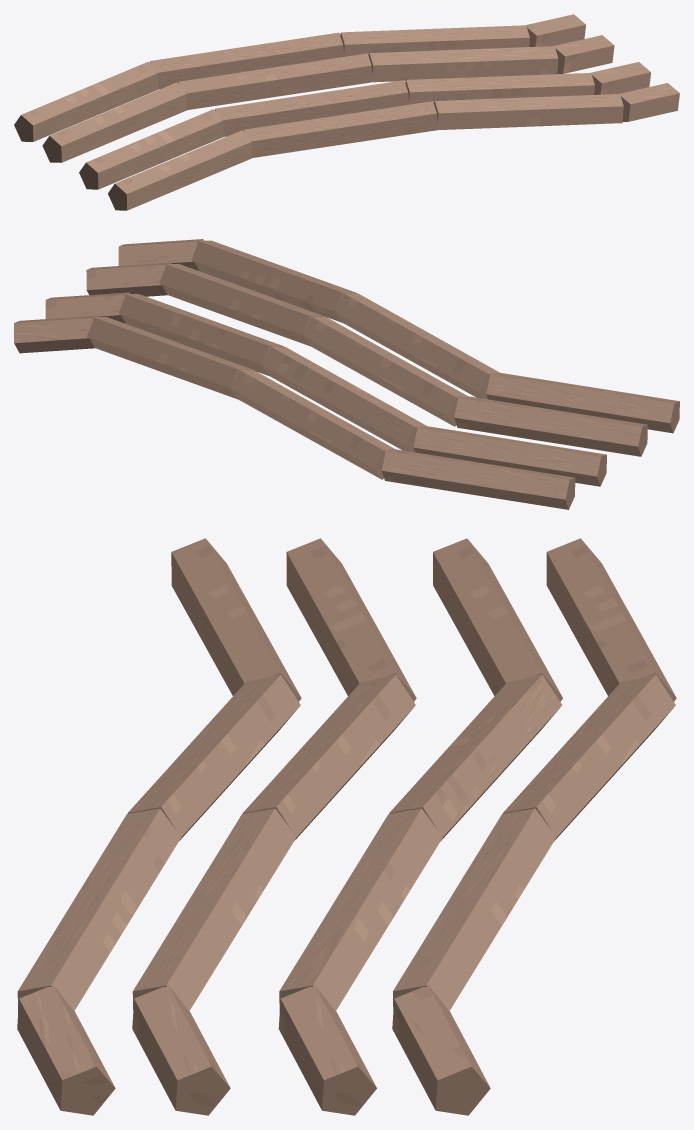
Rendered from sinew.glb.
The picture shows the model from 3 angles, top to bottom: view 1: azimuth 30°, elevation 25°; view 2: azimuth 150°, elevation 25°; view 3: azimuth 270°, elevation 25°; orthographic projection. The views are drawn at different scales.
Visible parts, largest first — view 1: block_tough curved strand 1 (×4), block_tough curved strand 2 (×4), block_tough curved strand 0 (×4), block_tough curved strand 3 (×4); view 2: block_tough curved strand 0 (×4), block_tough curved strand 1 (×4), block_tough curved strand 2 (×4), block_tough curved strand 3 (×4); view 3: block_tough curved strand 2 (×4), block_tough curved strand 1 (×4), block_tough curved strand 0 (×4), block_tough curved strand 3 (×4).
Part boxes in pixels (x1,y1,x2,y2): block_tough curved strand 1 (×4): [150, 32, 438, 157]; block_tough curved strand 2 (×4): [340, 25, 623, 130]; block_tough curved strand 0 (×4): [14, 61, 252, 210]; block_tough curved strand 3 (×4): [526, 14, 679, 121]; block_tough curved strand 0 (×4): [381, 373, 679, 509]; block_tough curved strand 1 (×4): [230, 293, 499, 479]; block_tough curved strand 2 (×4): [87, 240, 357, 399]; block_tough curved strand 3 (×4): [14, 239, 203, 353]; block_tough curved strand 2 (×4): [17, 808, 556, 1012]; block_tough curved strand 1 (×4): [127, 674, 675, 841]; block_tough curved strand 0 (×4): [171, 538, 676, 701]; block_tough curved strand 3 (×4): [17, 985, 490, 1115].
Bounding box in the file's own units: 0.1203 × 0.0108 × 0.0647.
Materials: 1 (1 with a texture image).
